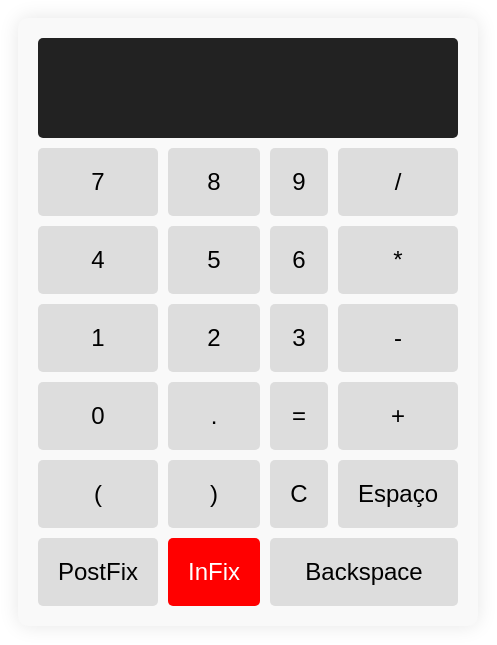
Test: button click updates display
Click the button "1" at (98, 338), box [38, 304, 158, 372]
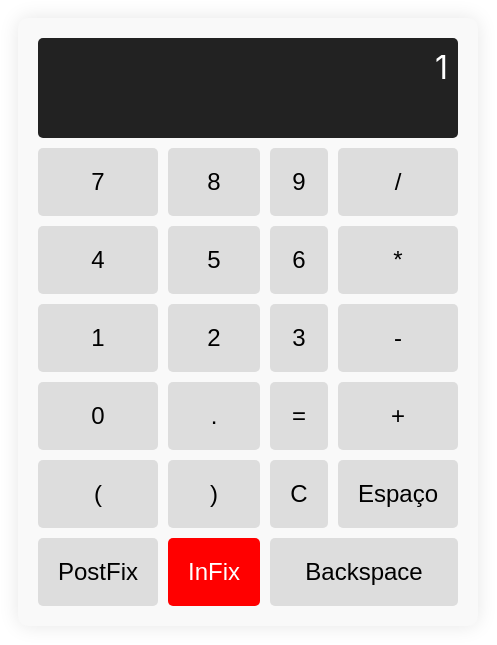
Click the button "2" at (214, 338), box [168, 304, 260, 372]
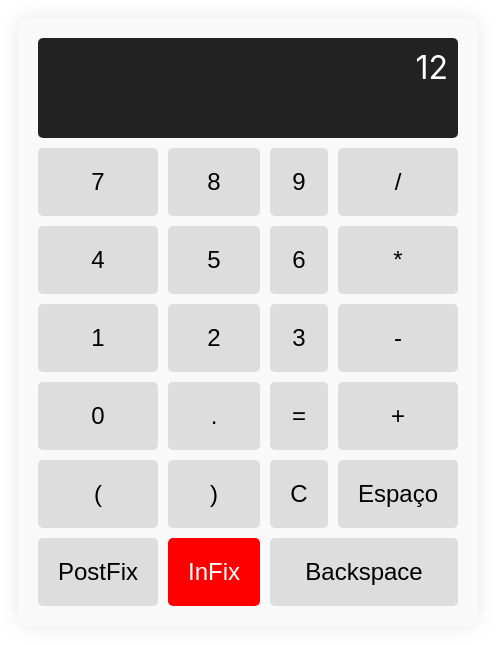
Click the button "3" at (299, 338), box [270, 304, 328, 372]
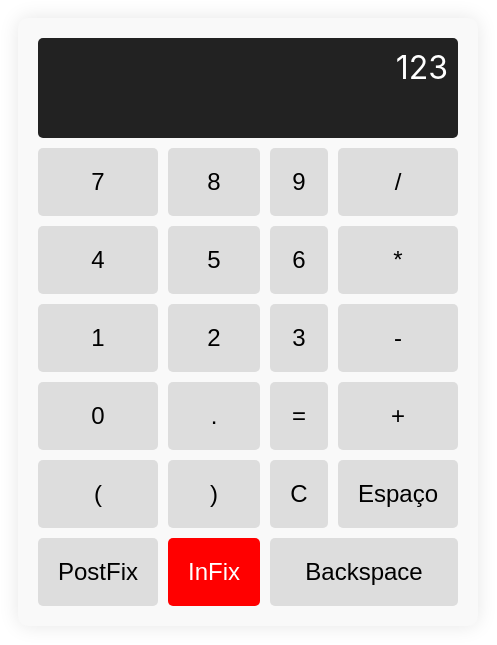
Check: the text "123" is shown, box [38, 38, 458, 138]
